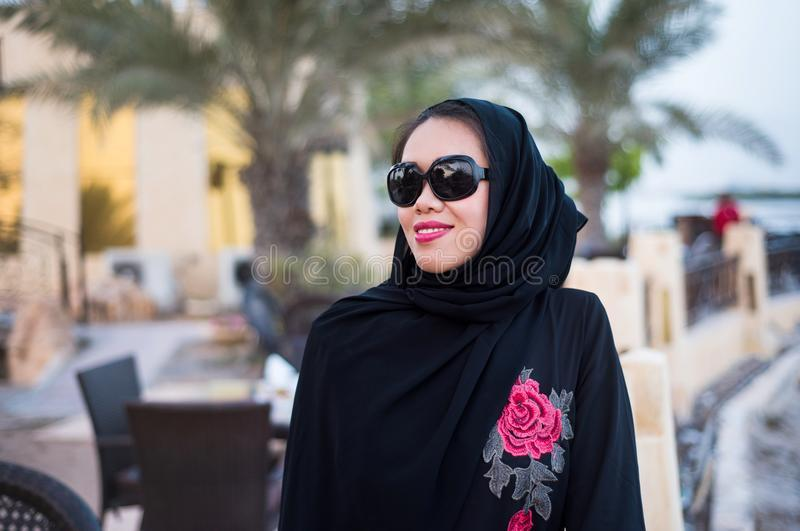No Mask: (379, 113, 526, 306)
